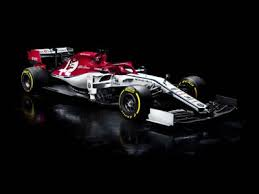f1_car: (15, 41, 243, 142)
